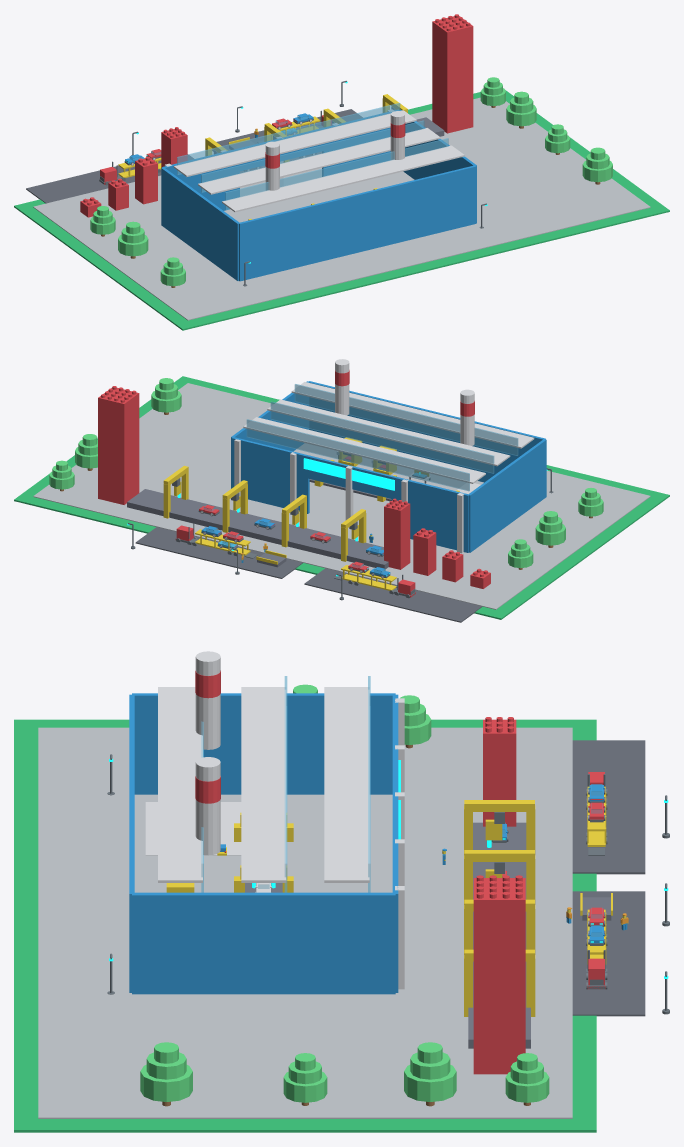
File: skd_factory_complex.glb
3 renders of one model, top to bottom at view 1: azimuth 30°, elevation 25°; view 2: azimuth 150°, elevation 25°; view 3: azimuth 270°, elevation 25°, orthographic. The views are drawn at different scales.
Parts seen in each view (by area): view 1: Factory_Curbs, Factory_Wall_Back, Factory_Grass_Base, Factory_Wall_Left, Lego_Tower_2M, Skylight_Slant_0, Skylight_Slant_2, Skylight_Slant_1, Skylight_Glass_2, Skylight_Glass_0, Skylight_Glass_1, Factory_Exit_Road (+17 smaller); view 2: Factory_Curbs, Factory_Grass_Base, Conveyor_Steel_Base, Factory_Wall_Left, Lego_Tower_2M, Factory_Wall_Back, Skylight_Glass_1, Skylight_Glass_2, Skylight_Glass_0, Factory_Wall_Front_R, Skylight_Slant_1, Skylight_Slant_2 (+20 smaller); view 3: Factory_Curbs, Factory_Wall_Right, Factory_Grass_Base, Factory_Wall_Left, Lego_Tower_2M, Skylight_Slant_2, Skylight_Slant_1, Factory_Exit_Road, Skylight_Slant_0, Hauler_Loading_Pad, Lego_Tower_1000, Factory_Pine_5 (+13 smaller).
Boxes of the visible parts, box(x1,y1,x2,y2) form: Factory_Curbs: box(33, 97, 650, 320); Factory_Wall_Back: box(239, 165, 476, 281); Factory_Grass_Base: box(14, 90, 669, 330); Factory_Wall_Left: box(161, 167, 238, 280); Lego_Tower_2M: box(432, 14, 473, 133); Skylight_Slant_0: box(222, 145, 464, 212); Skylight_Slant_2: box(173, 110, 416, 176); Skylight_Slant_1: box(198, 128, 440, 194); Skylight_Glass_2: box(177, 103, 400, 174); Skylight_Glass_0: box(225, 138, 448, 210); Skylight_Glass_1: box(201, 120, 424, 192); Factory_Exit_Road: box(26, 154, 193, 203); Factory_Curbs: box(33, 383, 650, 609); Factory_Grass_Base: box(14, 376, 669, 619); Conveyor_Steel_Base: box(127, 489, 388, 569); Factory_Wall_Left: box(468, 439, 546, 552); Lego_Tower_2M: box(98, 386, 139, 504); Factory_Wall_Back: box(308, 381, 545, 482); Skylight_Glass_1: box(270, 401, 494, 473); Skylight_Glass_2: box(246, 419, 469, 491); Skylight_Glass_0: box(294, 384, 518, 455); Factory_Wall_Front_R: box(231, 437, 309, 513); Skylight_Slant_1: box(267, 399, 510, 466); Skylight_Slant_2: box(243, 417, 485, 483); Factory_Curbs: box(38, 727, 572, 1118); Factory_Wall_Right: box(132, 892, 395, 994); Factory_Grass_Base: box(14, 719, 596, 1132); Factory_Wall_Left: box(132, 693, 395, 794); Lego_Tower_2M: box(473, 875, 525, 1074); Skylight_Slant_2: box(324, 687, 369, 882); Skylight_Slant_1: box(241, 687, 286, 882); Factory_Exit_Road: box(572, 740, 645, 874); Skylight_Slant_0: box(158, 687, 202, 882); Hauler_Loading_Pad: box(572, 891, 645, 1016); Lego_Tower_1000: box(483, 717, 516, 826); Factory_Pine_5: box(404, 1042, 456, 1101).
Bounding box in the file's own units: 140 × 30 × 94.55.
